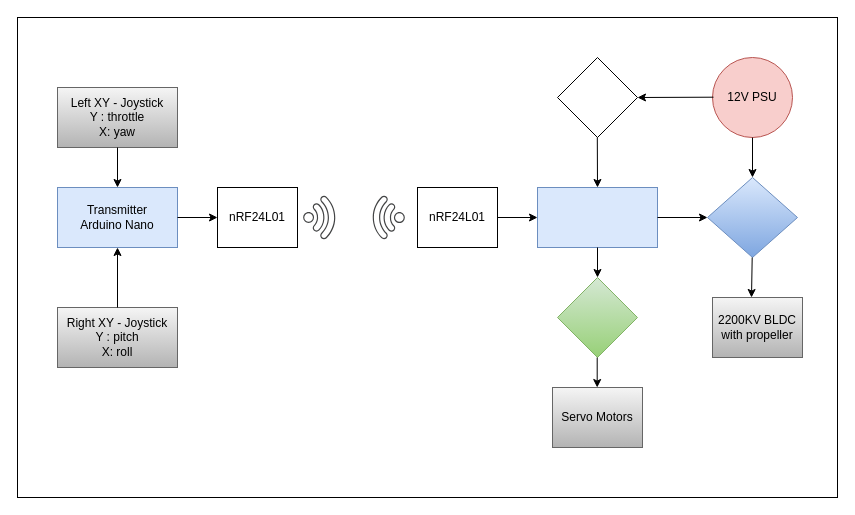
Image size: 855x515. Some labels were removed from this diagram. Each missing label, with the box of its shape:
12V BLDC Driver: (706, 176, 798, 258)
12V to 3V3: (556, 56, 638, 138)
PID: (556, 276, 638, 358)
Receiver STM32Nucleo: (536, 186, 658, 248)
